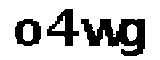4: (45, 7, 81, 50)
g: (121, 16, 149, 60)
o: (10, 19, 41, 49)
w: (79, 17, 122, 49)
